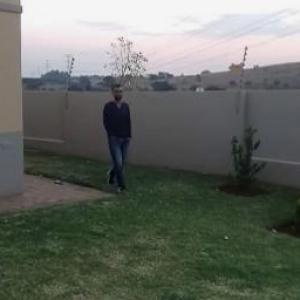follow: (94, 80, 132, 193)
